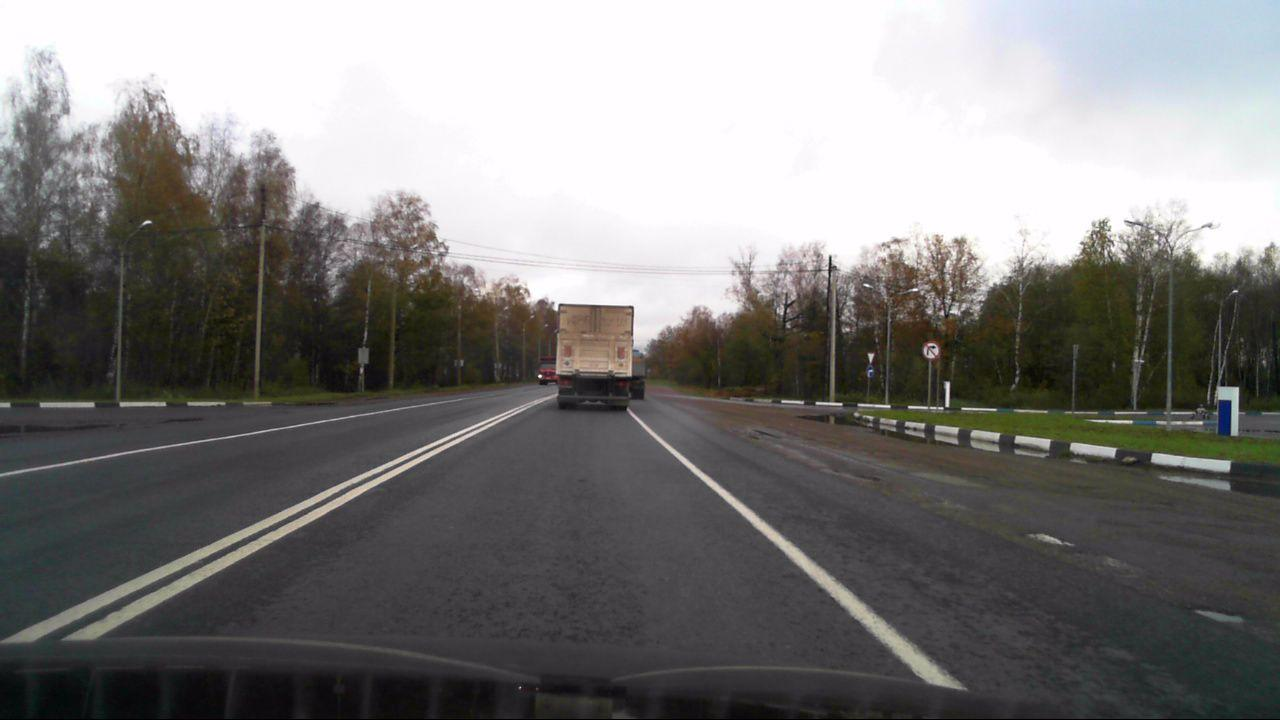2_4: (866, 351, 875, 363)
3_18_1: (921, 340, 939, 360)
4_1_2: (866, 366, 874, 377)
